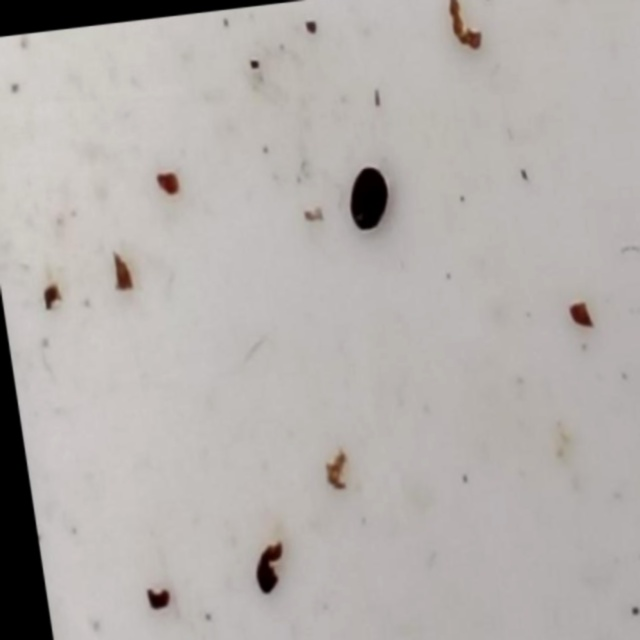varroa: (337, 160, 393, 234)
